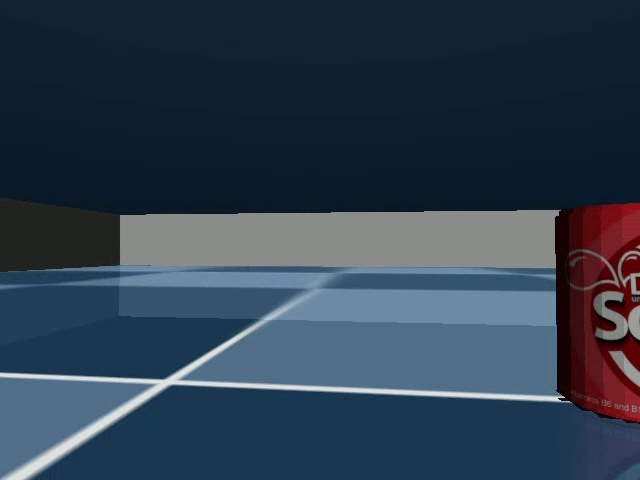can: (547, 189, 640, 432)
